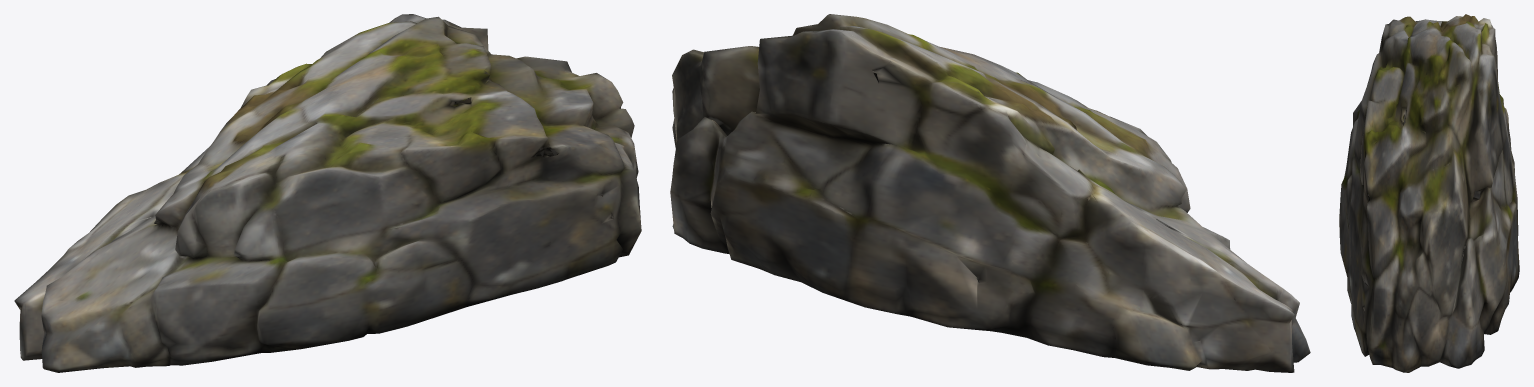
Rendered from cliff1.glb.
The picture shows the model from 3 angles, left to right: view 1: azimuth 30°, elevation 25°; view 2: azimuth 150°, elevation 25°; view 3: azimuth 270°, elevation 25°; orthographic projection. The views are drawn at different scales.
Visible parts, largest first — view 1: MV_cliff1; view 2: MV_cliff1; view 3: MV_cliff1.
Part boxes in pixels (bbox=[...]): MV_cliff1: bbox=[14, 14, 641, 372]; MV_cliff1: bbox=[670, 14, 1310, 372]; MV_cliff1: bbox=[1339, 14, 1519, 372].
Size of the model in its own units: 6.27 by 2.4 by 1.68.
Materials: 1 (1 with a texture image).
